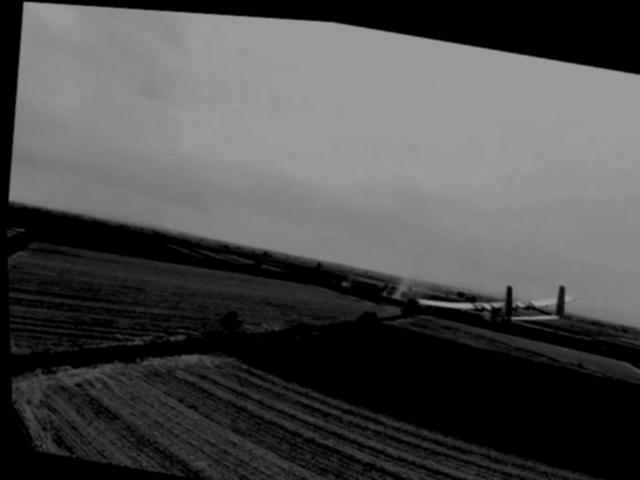hedef: (409, 243, 579, 341)
